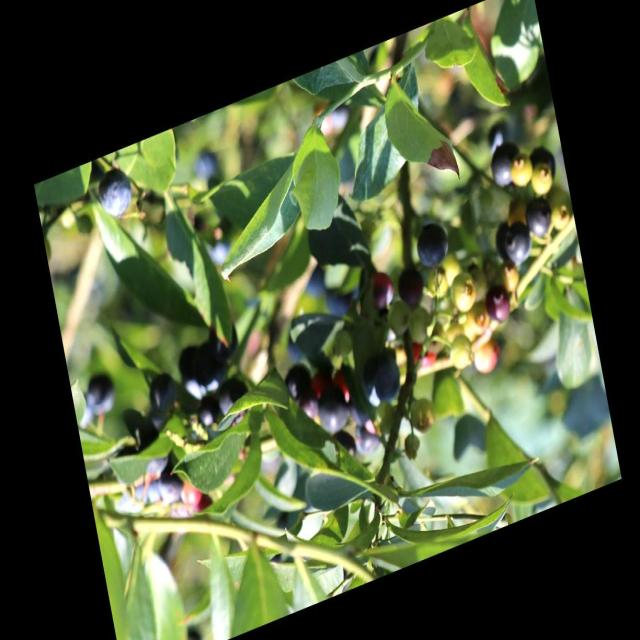blueberry: (359, 346, 405, 412), (484, 134, 529, 195), (92, 161, 135, 223), (493, 212, 533, 274), (412, 216, 453, 272), (82, 362, 120, 419), (143, 365, 181, 418), (314, 383, 350, 438), (394, 259, 430, 314), (521, 192, 557, 247), (213, 380, 251, 432), (178, 345, 210, 404), (363, 263, 399, 311), (351, 414, 384, 464), (482, 278, 513, 330), (282, 359, 314, 408), (527, 137, 559, 185)
blueberry-halfripe: (472, 335, 501, 380), (179, 476, 202, 506)
blueberry-unripe: (446, 271, 478, 318), (403, 302, 432, 347), (444, 333, 474, 374), (462, 298, 491, 340), (526, 160, 554, 201), (510, 152, 536, 190)
